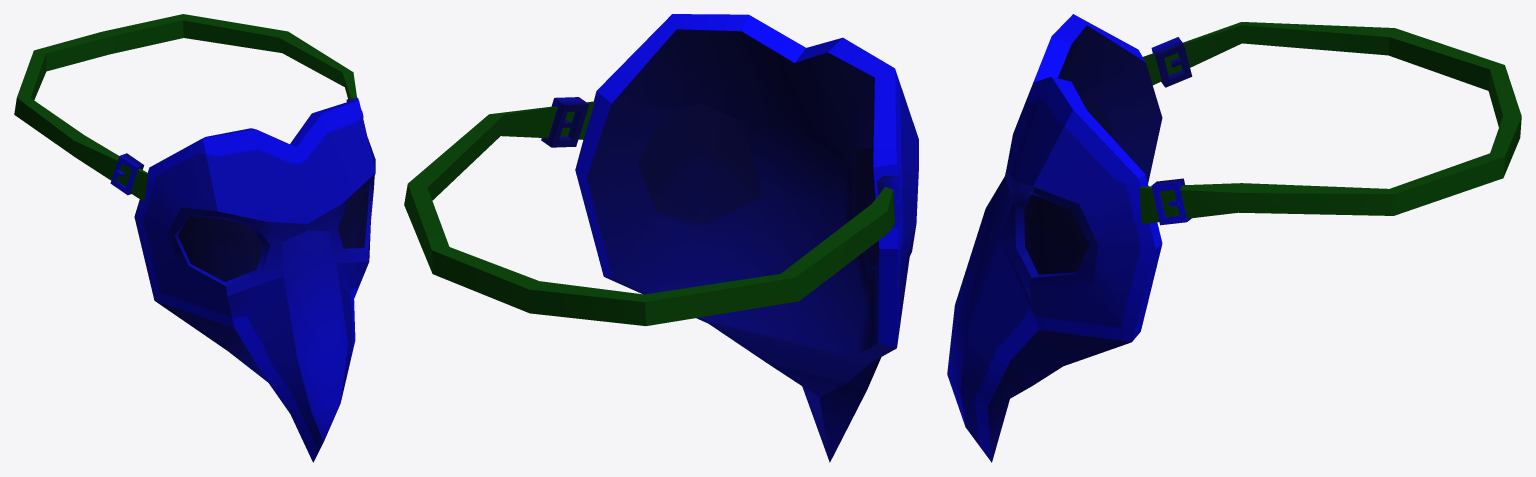
The model's file is PlagueMask.fbx.
3 renders of one model, left to right at view 1: azimuth 30°, elevation 25°; view 2: azimuth 150°, elevation 25°; view 3: azimuth 270°, elevation 25°, orthographic. The views are drawn at different scales.
Parts seen in each view (by area): view 1: PlagueMask, PlagueMask_Strap; view 2: PlagueMask, PlagueMask_Strap; view 3: PlagueMask, PlagueMask_Strap.
Part boxes in pixels (x1=…): PlagueMask: x1=134, y1=100, x2=375, y2=462; PlagueMask_Strap: x1=14, y1=14, x2=363, y2=201; PlagueMask: x1=575, y1=14, x2=918, y2=462; PlagueMask_Strap: x1=404, y1=97, x2=902, y2=325; PlagueMask: x1=947, y1=14, x2=1162, y2=462; PlagueMask_Strap: x1=1139, y1=22, x2=1521, y2=225.
Bounding box in the file's own units: 23.03 × 25.51 × 32.69.
